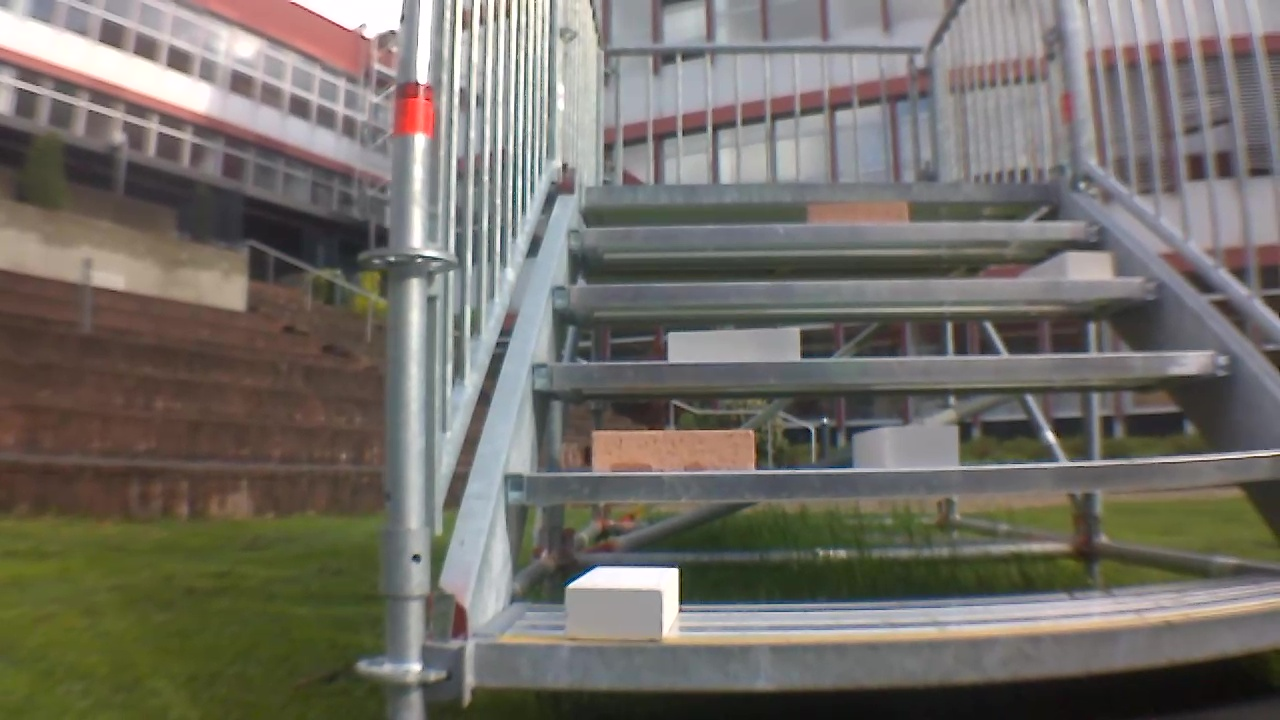brick: (560, 567, 684, 640), (589, 428, 756, 476), (850, 426, 968, 471), (668, 327, 806, 363), (1016, 251, 1122, 284), (805, 199, 911, 225)
edge: (462, 603, 1280, 694), (501, 451, 1280, 508), (529, 350, 1231, 392), (550, 277, 1160, 314), (569, 221, 1106, 253), (583, 183, 1062, 209)
stairs: (401, 0, 1280, 704)
steps: (456, 184, 1280, 712)
